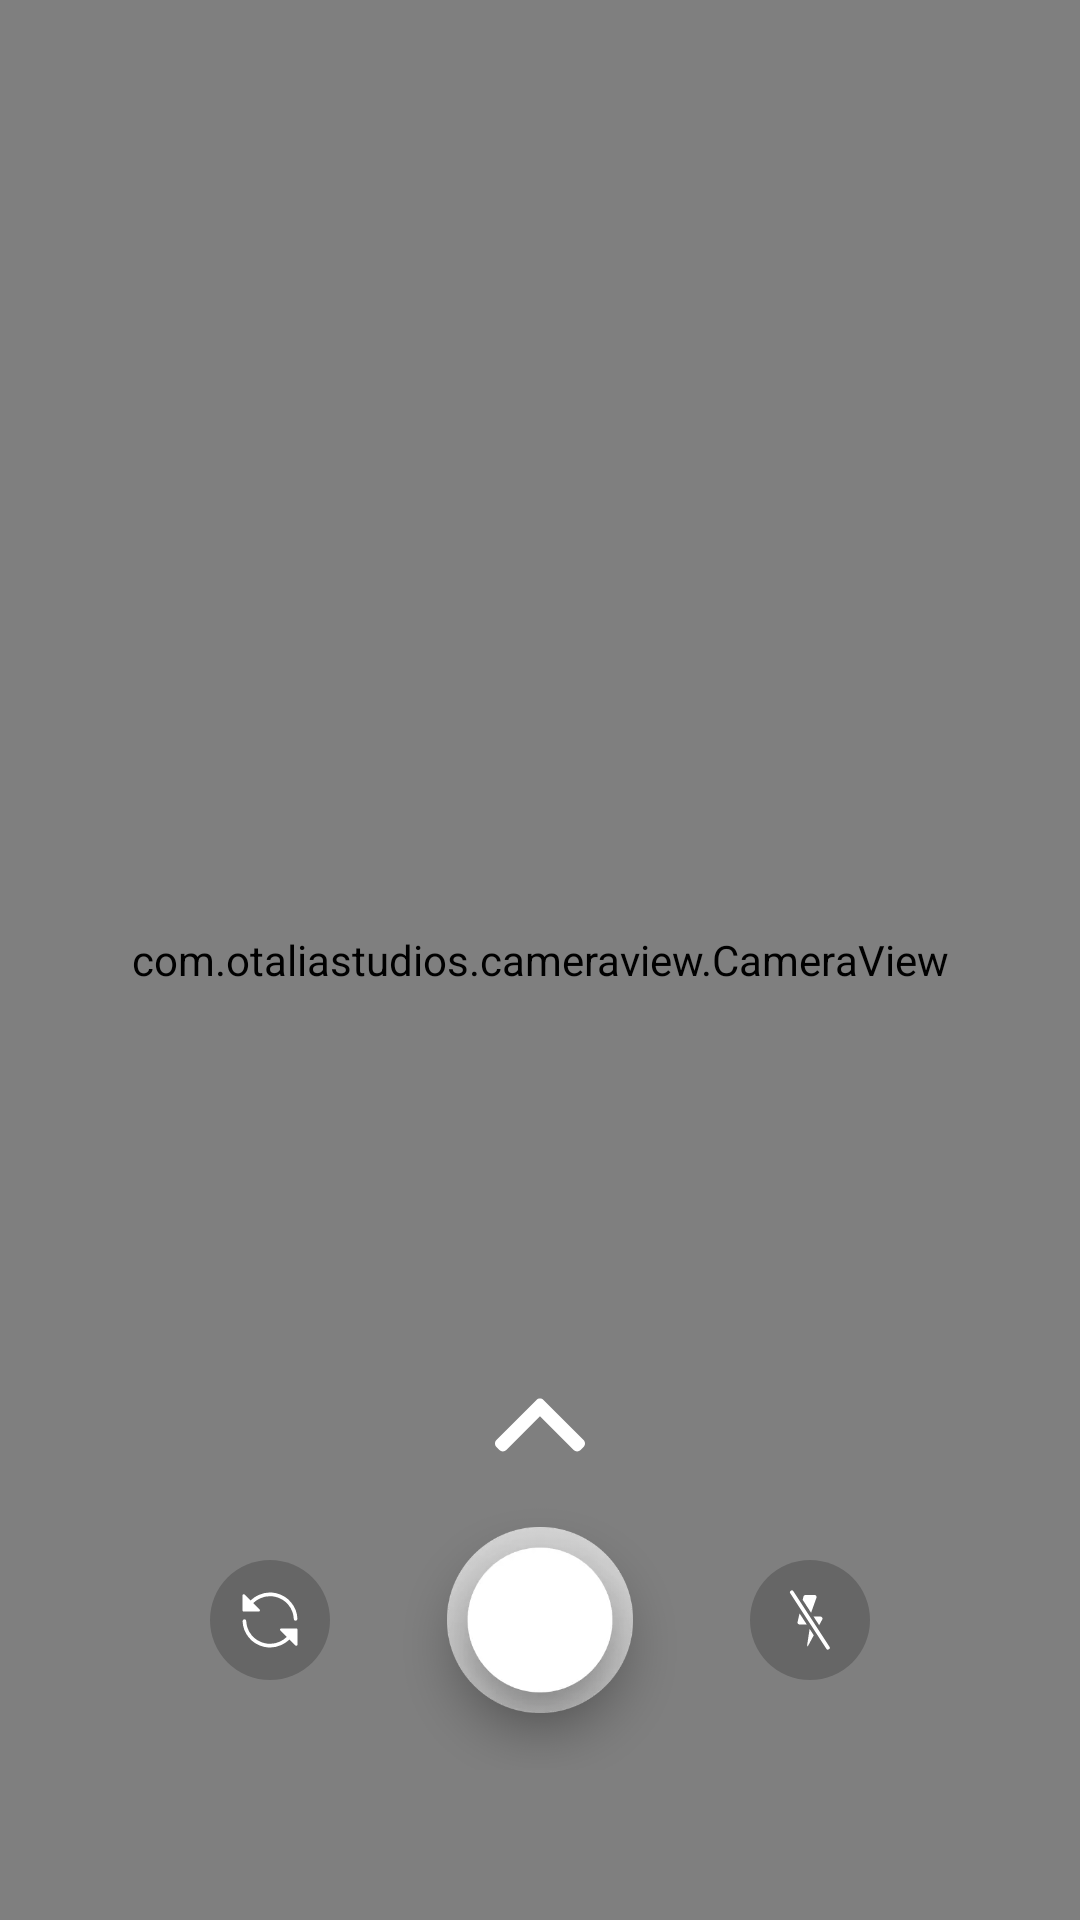

Icon click points for this 1080px×1920px phone screenshot, format (x=x, y=y):
flash off: (x=810, y=1620)
flip camera: (x=270, y=1620)
record: (x=540, y=1623)
up arrow: (x=540, y=1425)
